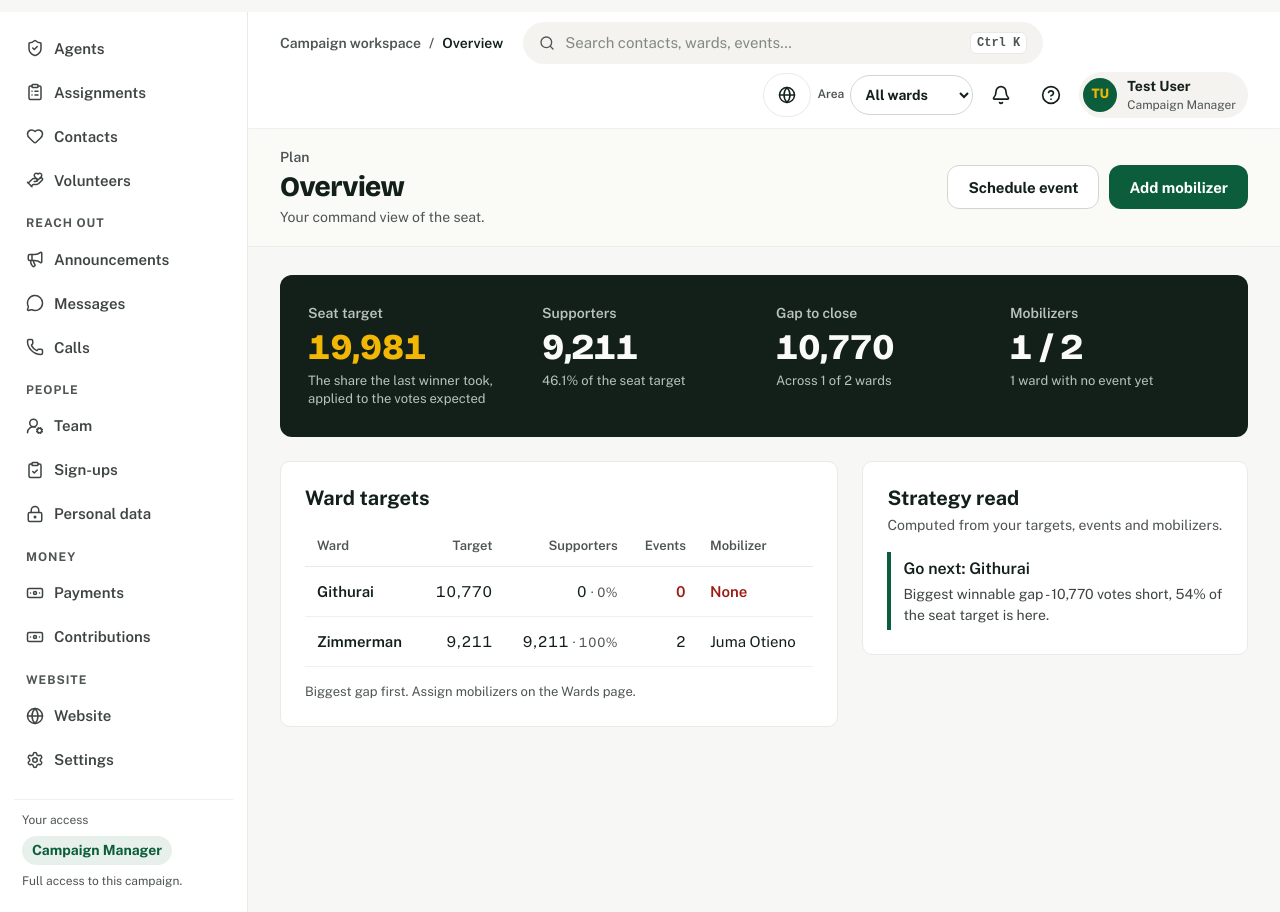
Test: payments › shows the manager their own scheduled payment as awaiting the candidate
(page scrolled)
Step 1. Click the link "Payments" → (75, 593), box [26,584,124,602]
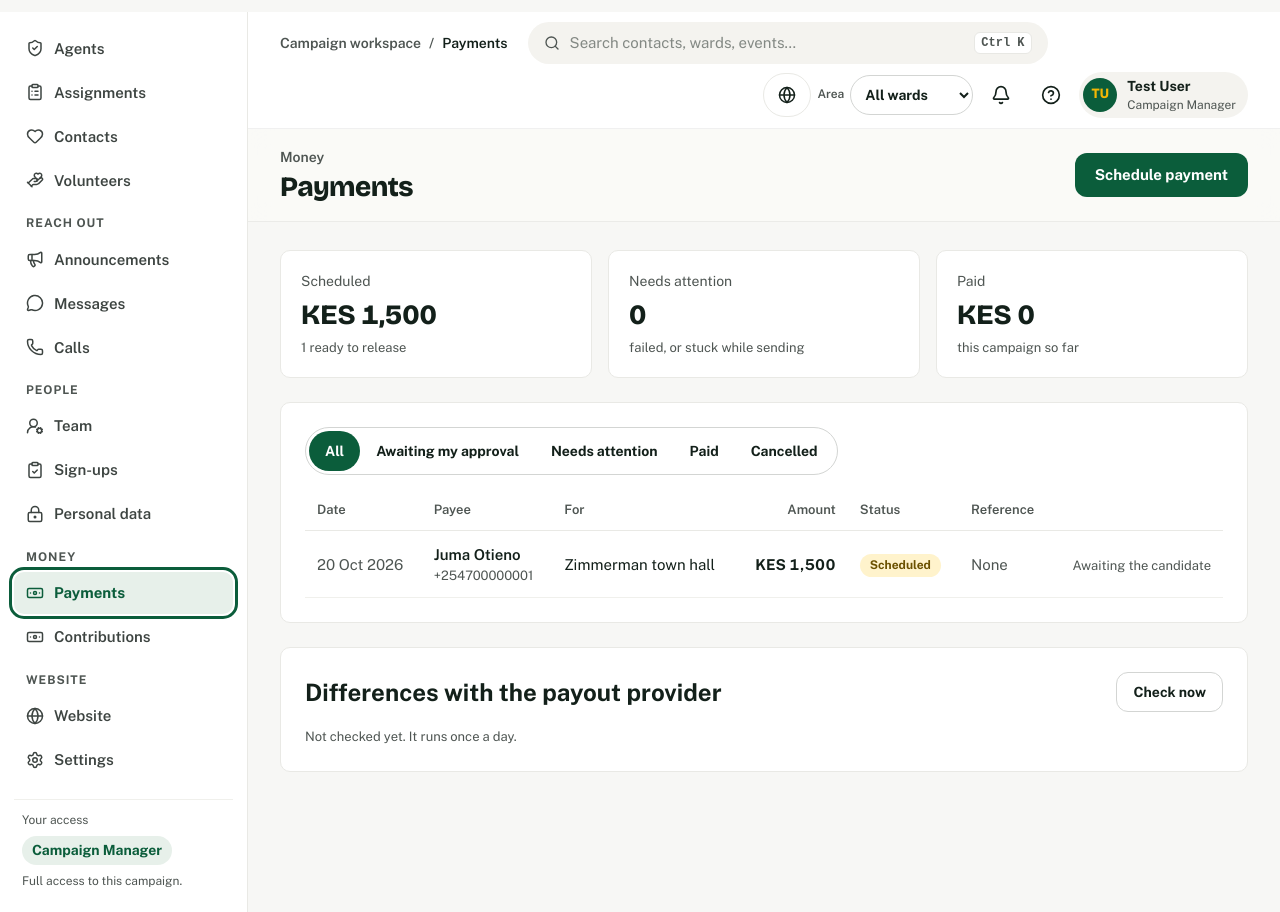
Expected: the text "Juma Otieno" is shown, [434,546,521,563]
Result: the text "Awaiting the candidate" is shown at [1073,558,1211,573]
